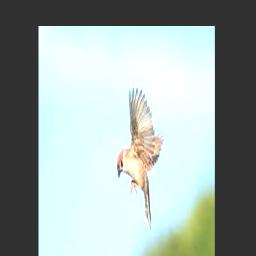Sparrow: (116, 87, 164, 229)
